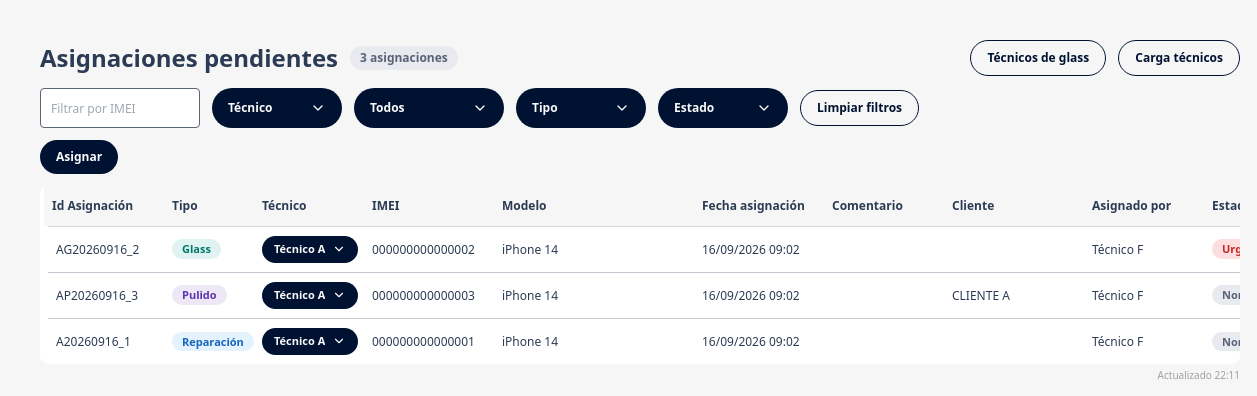
Scenario: AsignacionesPage › el clic derecho selecciona la fila y abre su menú contextual
This screenshot has width=1257, height=396.
Right-click the text "A20260916_1" at (104, 341), box [44, 318, 164, 364]
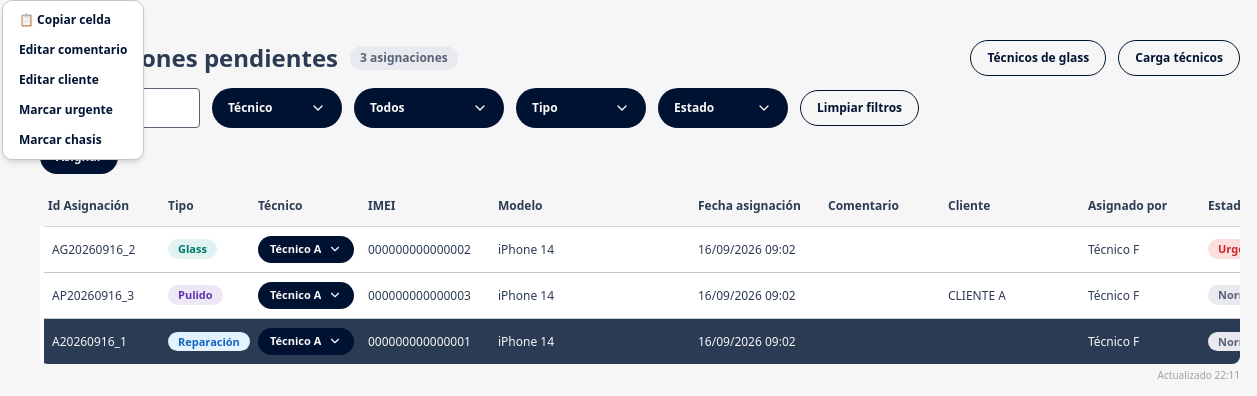
Expected: the menu items read "📋  Copiar celda", "Editar comentario", "Editar cliente", "Marcar urgente", "Marcar chasis", in this order, [19, 11, 111, 28]; [19, 41, 127, 58]; [19, 71, 99, 88]; [19, 101, 113, 118]; [19, 131, 102, 148]
